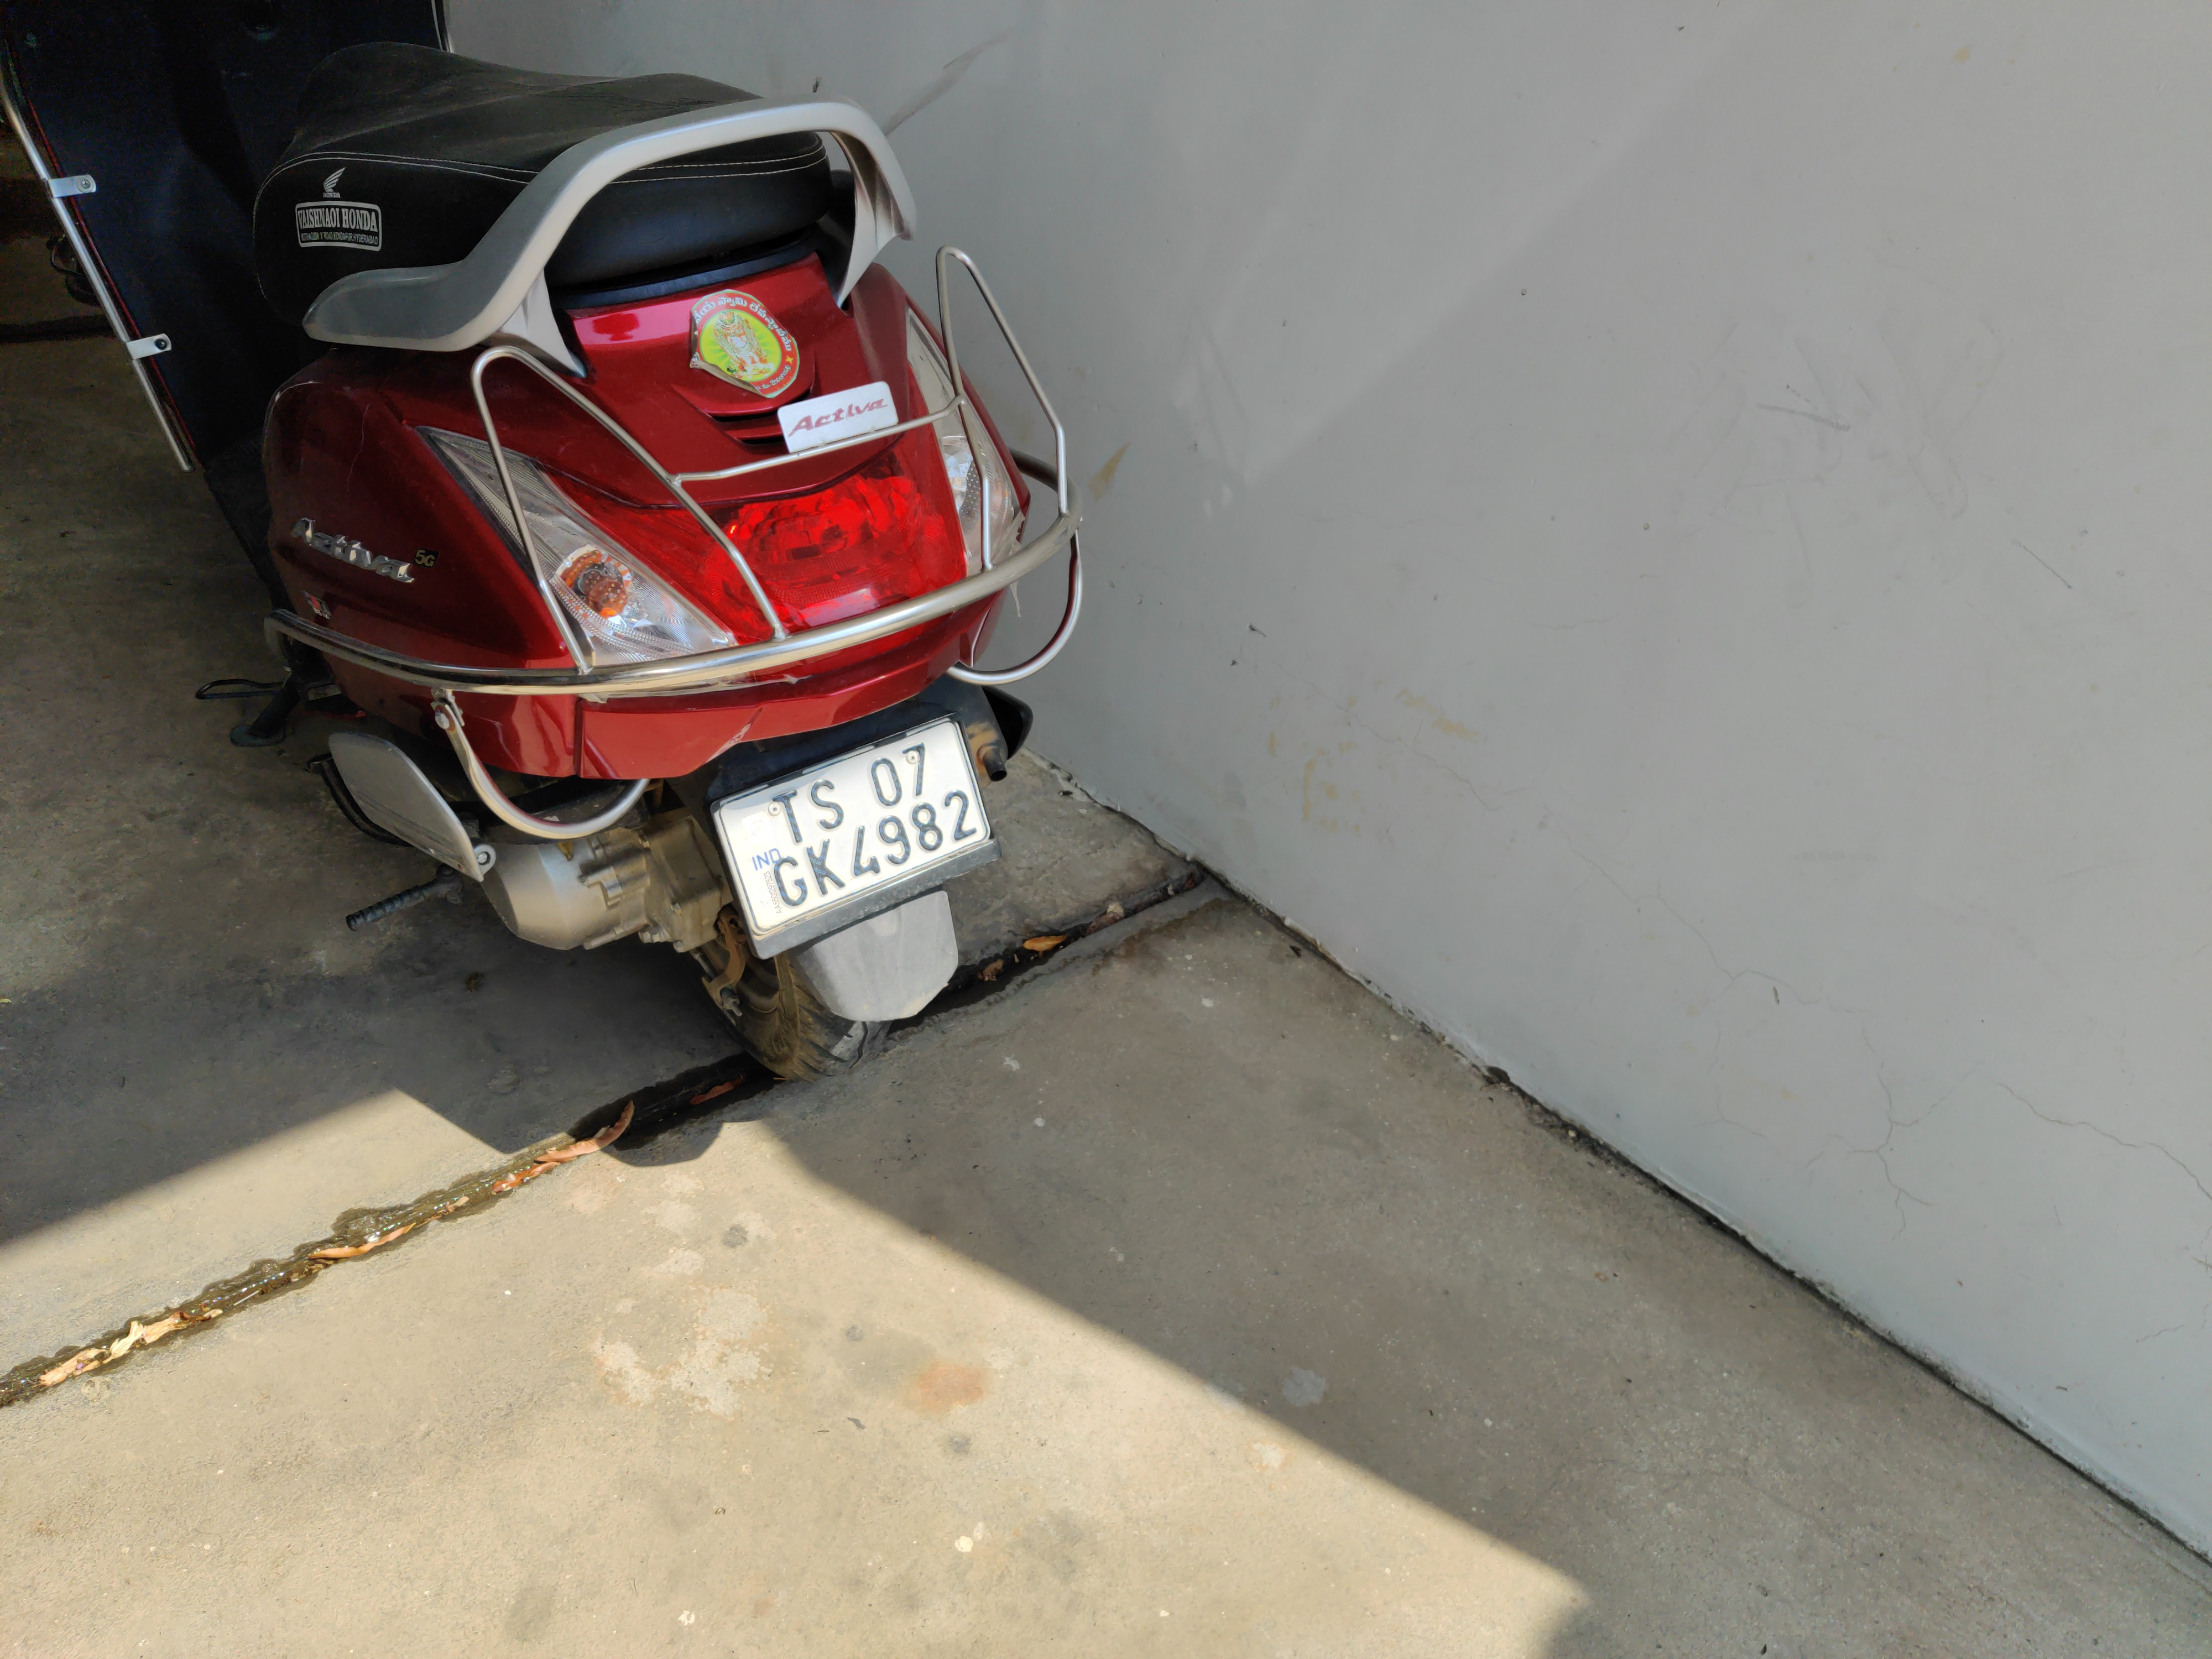plate: (716, 711, 1031, 959)
